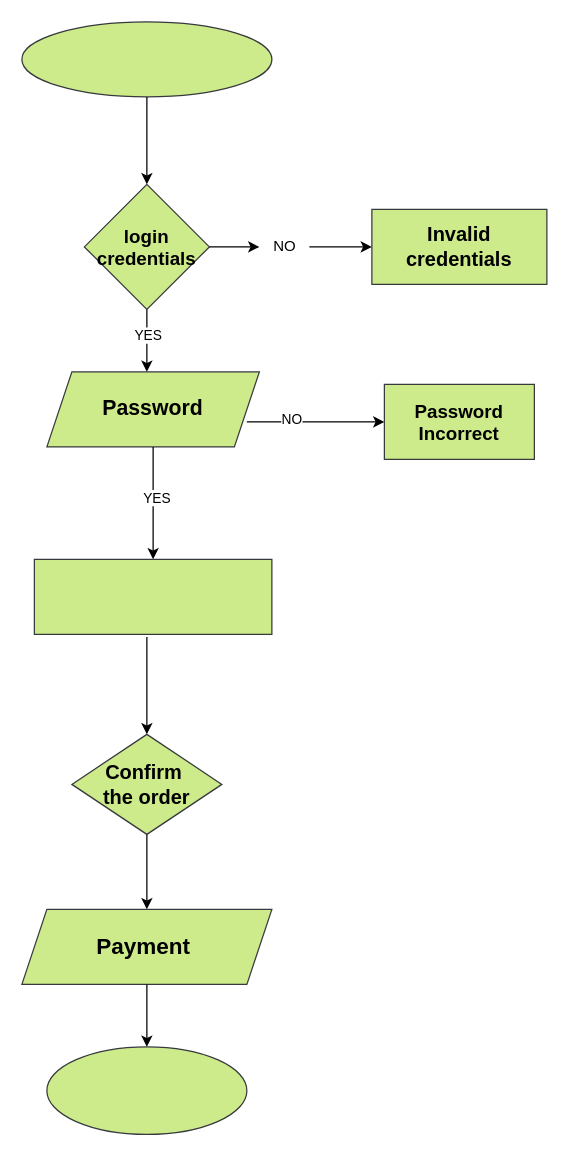
Image size: 569x1156. Some labels were removed from this diagram. Each missing label, with the centre of its shape:
"End" goes at point (146, 1090).
"Search for Food" goes at point (152, 596).
"start" goes at point (146, 59).
